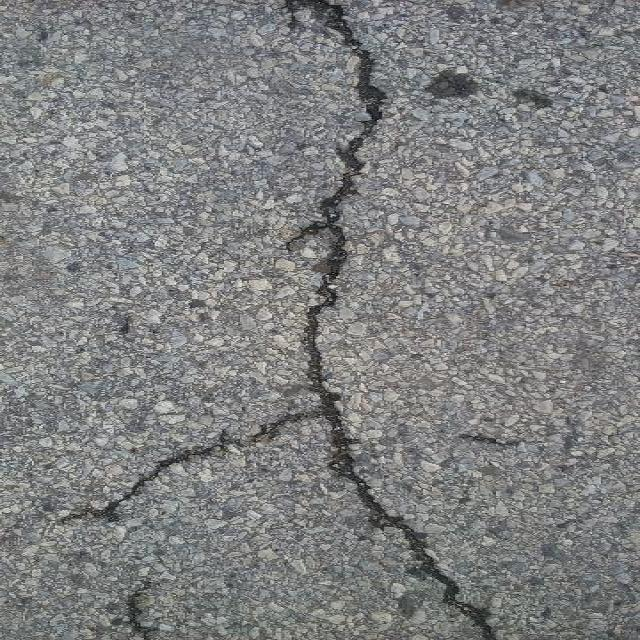GRIETA: (286, 0, 495, 639), (62, 408, 322, 521), (127, 589, 149, 639), (459, 433, 520, 446)
